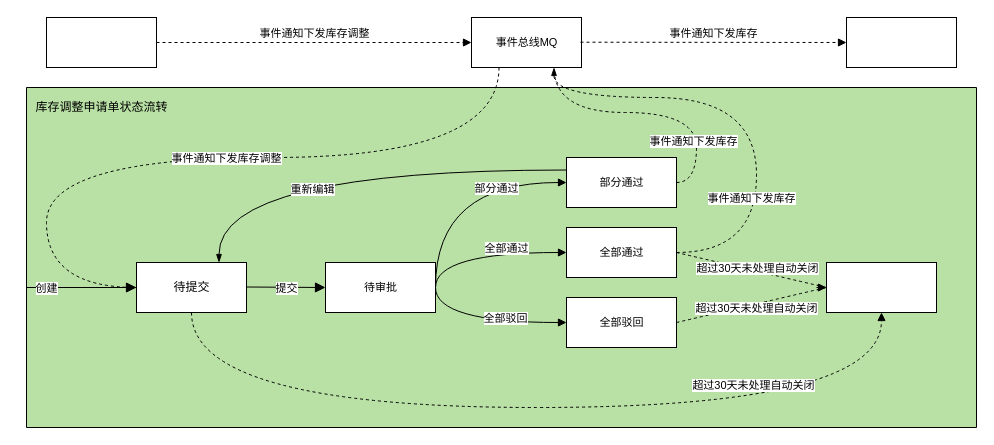
Some shapes in this 994 by 445 pixel diagram are drawn without their labels. The centre of each missing label's shape, as x and y in pixels:
关闭: pixel 881 287
库存盘点: pixel 101 42
零件档案：库存: pixel 901 42
